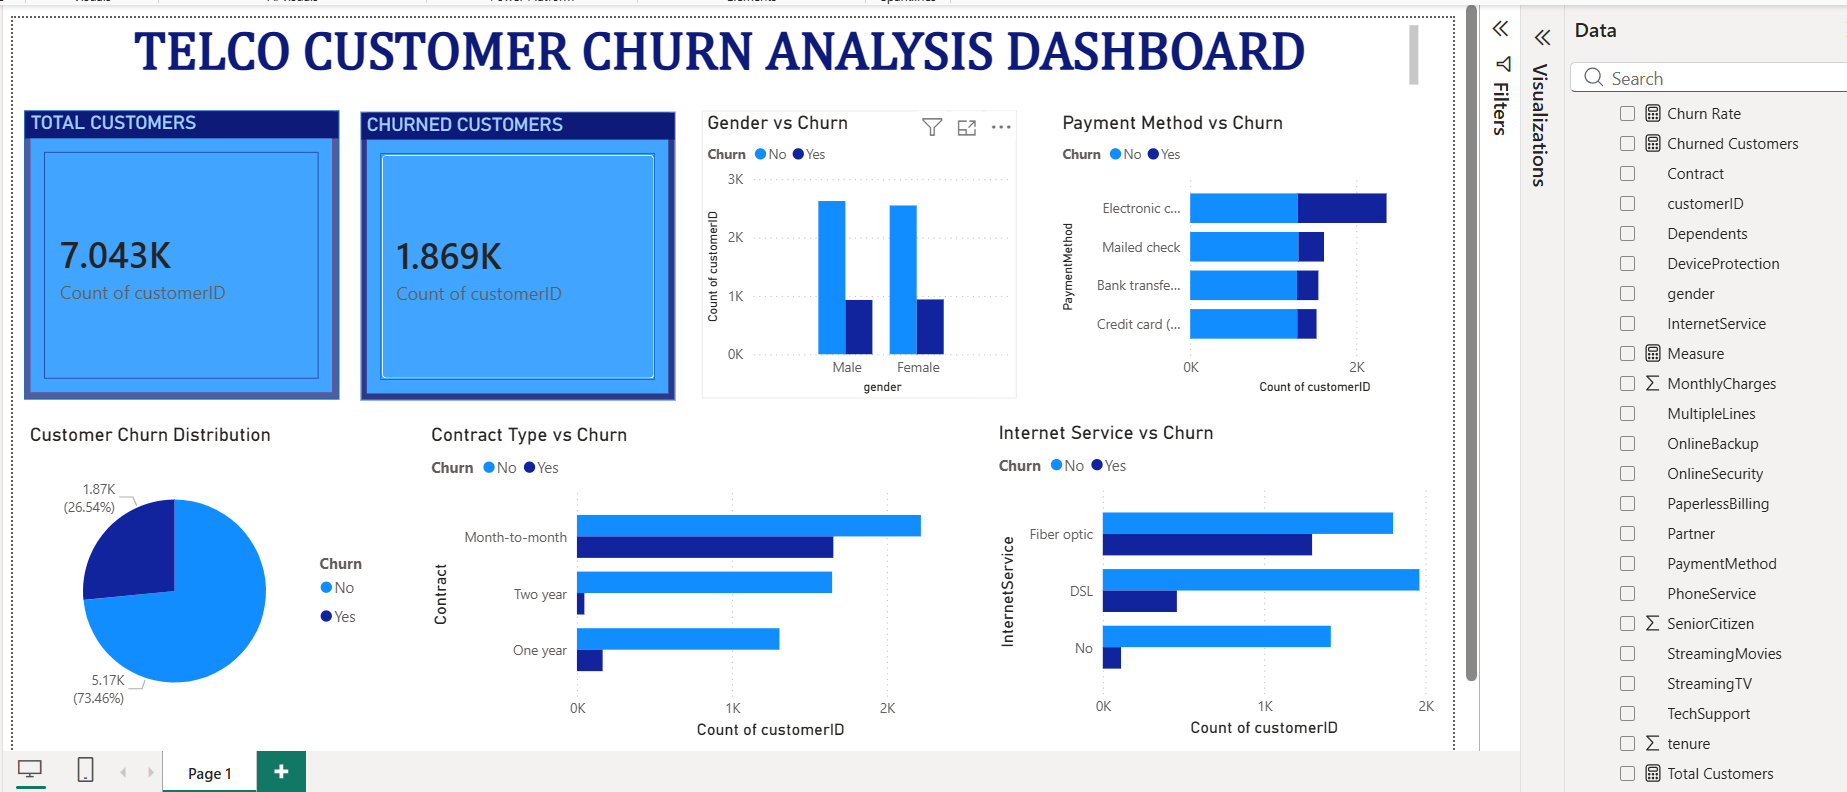

The dashboard page shown, as its layout file describes it:
{"tool":"powerbi","page":{"name":"Page 1","canvas":[1280,720],"ordinal":0},"visuals":[{"type":"cardVisual","title":"TOTAL CUSTOMERS","fields":{"Data":["Count(Telco Customer Churn (2).customerID)"]},"box":[10,82.2,280,256.7],"z":0},{"type":"cardVisual","title":"CHURNED CUSTOMERS","fields":{"Data":["CountNonNull(Telco Customer Churn (2).customerID)"]},"box":[308.9,83.3,280,256.7],"z":1000},{"type":"pieChart","title":"Customer Churn Distribution","fields":{"Category":["Telco Customer Churn (2).Churn"],"Y":["CountNonNull(Telco Customer Churn (2).customerID)"]},"box":[10,360,325.6,280],"z":2000},{"type":"clusteredBarChart","title":"Contract Type vs Churn","fields":{"Category":["Telco Customer Churn (2).Contract"],"Y":["CountNonNull(Telco Customer Churn (2).customerID)"],"Series":["Telco Customer Churn (2).Churn"]},"box":[366.7,360,491.1,285.6],"z":3000},{"type":"clusteredBarChart","title":"Internet Service vs Churn","fields":{"Category":["Telco Customer Churn (2).InternetService"],"Y":["CountNonNull(Telco Customer Churn (2).customerID)"],"Series":["Telco Customer Churn (2).Churn"]},"box":[871.1,357.8,396.7,285.6],"z":4000},{"type":"clusteredColumnChart","title":"Gender vs Churn","fields":{"Category":["Telco Customer Churn (2).gender"],"Y":["CountNonNull(Telco Customer Churn (2).customerID)"],"Series":["Telco Customer Churn (2).Churn"]},"box":[612.2,82.2,280,256.7],"z":5000},{"type":"barChart","title":"Payment Method vs Churn","fields":{"Category":["Telco Customer Churn (2).PaymentMethod"],"Y":["CountNonNull(Telco Customer Churn (2).customerID)"],"Series":["Telco Customer Churn (2).Churn"]},"box":[927.8,82.2,352.2,256.7],"z":6000},{"type":"textbox","box":[10,0,1244.4,64.4],"z":7000}]}

Visuals, with their boxes on the page's 1280x720 design canvas (x1, y1, x2, y2). These are canvas units, not pixel positions in the 1847x792 screenshot, which may show the page scaled, cropped or inside an application window:
"TOTAL CUSTOMERS" cardVisual: select_region(10, 82, 290, 339)
"CHURNED CUSTOMERS" cardVisual: select_region(309, 83, 589, 340)
"Customer Churn Distribution" pieChart: select_region(10, 360, 336, 640)
"Contract Type vs Churn" clusteredBarChart: select_region(367, 360, 858, 646)
"Internet Service vs Churn" clusteredBarChart: select_region(871, 358, 1268, 643)
"Gender vs Churn" clusteredColumnChart: select_region(612, 82, 892, 339)
"Payment Method vs Churn" barChart: select_region(928, 82, 1280, 339)
textbox: select_region(10, 0, 1254, 64)
